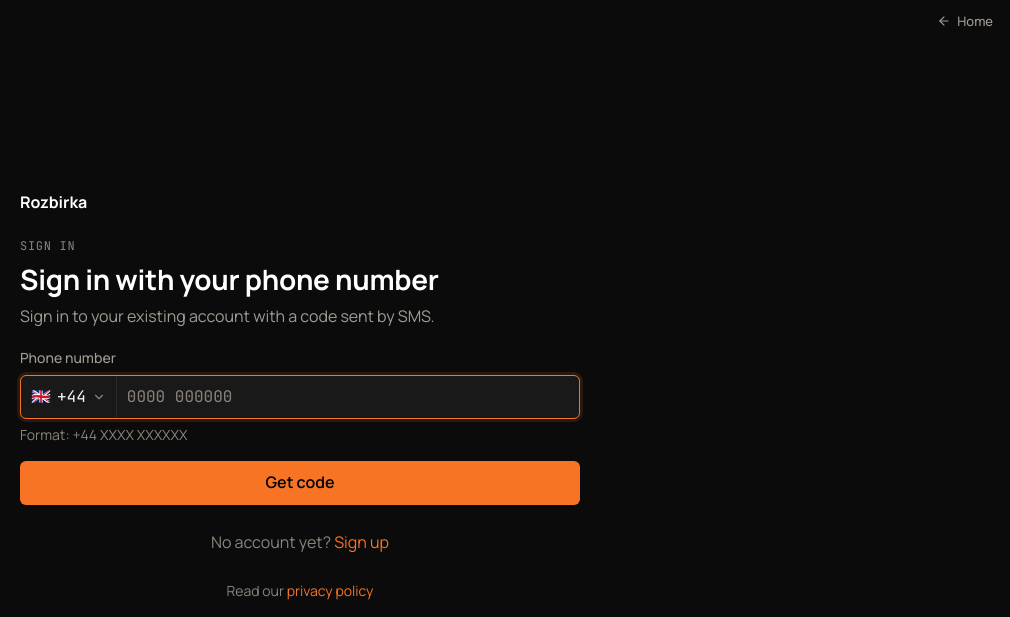
Test: rejects a number from an unsupported country before sending
The image size is (1010, 617).
Type "+4915123456789" into the field labelled "Phone number" at (348, 396), box left=117, top=376, right=579, bottom=418
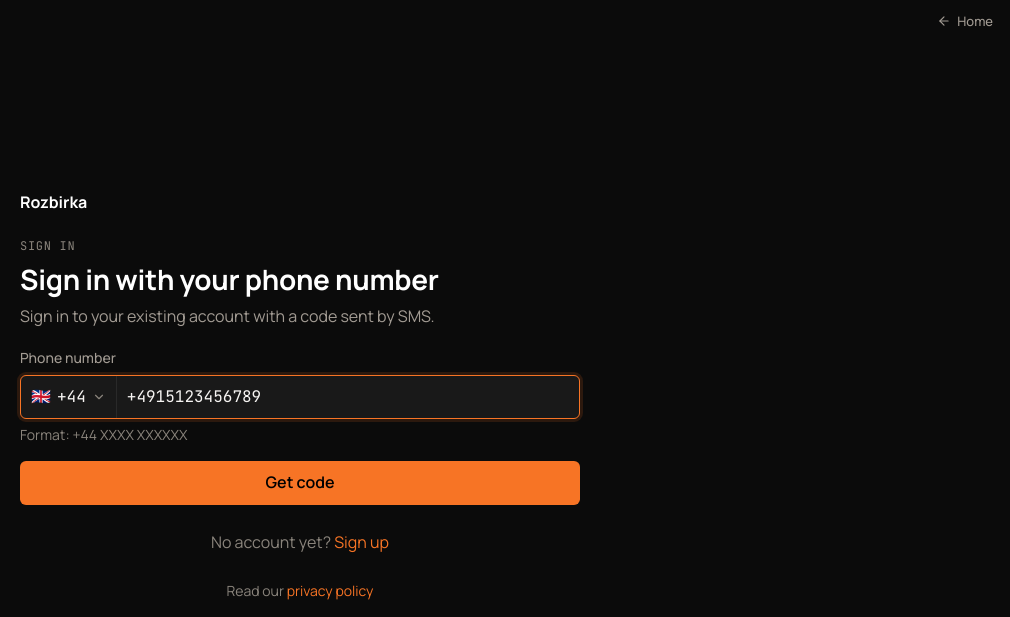
Click the button "Get code" at (300, 483), box left=20, top=461, right=580, bottom=505
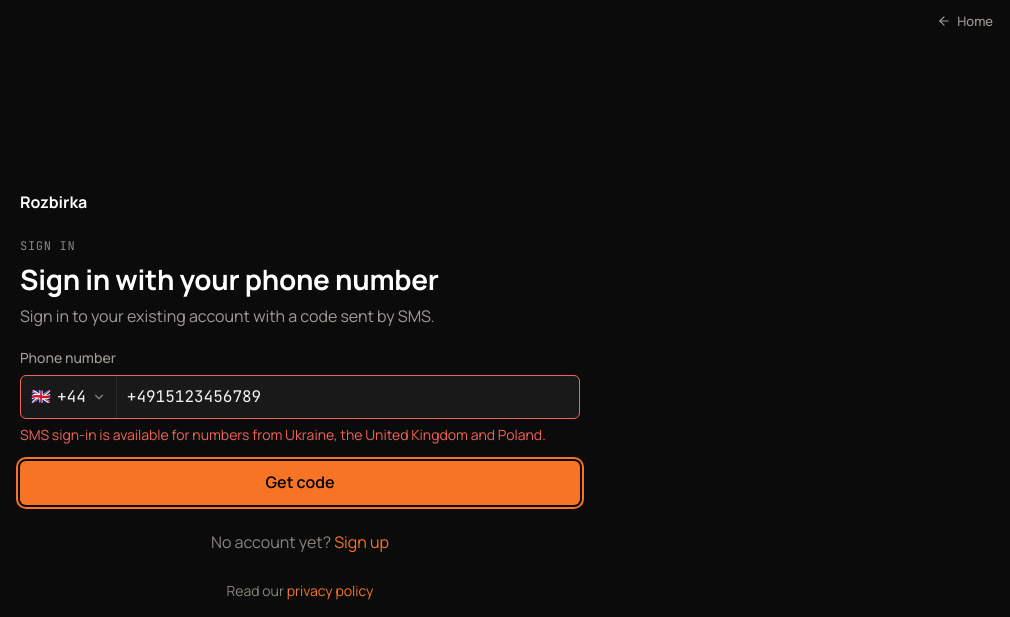
Expected: the text "SMS sign-in is available for numbers from Ukraine" is shown, left=20, top=424, right=546, bottom=444
